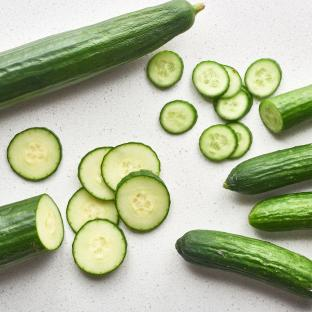Cucumber: (0, 0, 204, 109), (176, 230, 311, 298), (0, 194, 63, 268), (224, 144, 311, 194), (116, 170, 170, 231), (73, 219, 126, 274), (101, 143, 160, 191), (8, 128, 61, 180), (259, 84, 312, 132), (249, 192, 311, 231), (67, 188, 118, 232), (78, 147, 114, 200), (245, 59, 281, 97), (199, 125, 238, 160), (193, 61, 229, 98), (147, 51, 183, 87), (160, 101, 197, 133), (214, 90, 251, 121), (227, 122, 252, 158), (221, 65, 242, 97), (242, 85, 252, 106)
